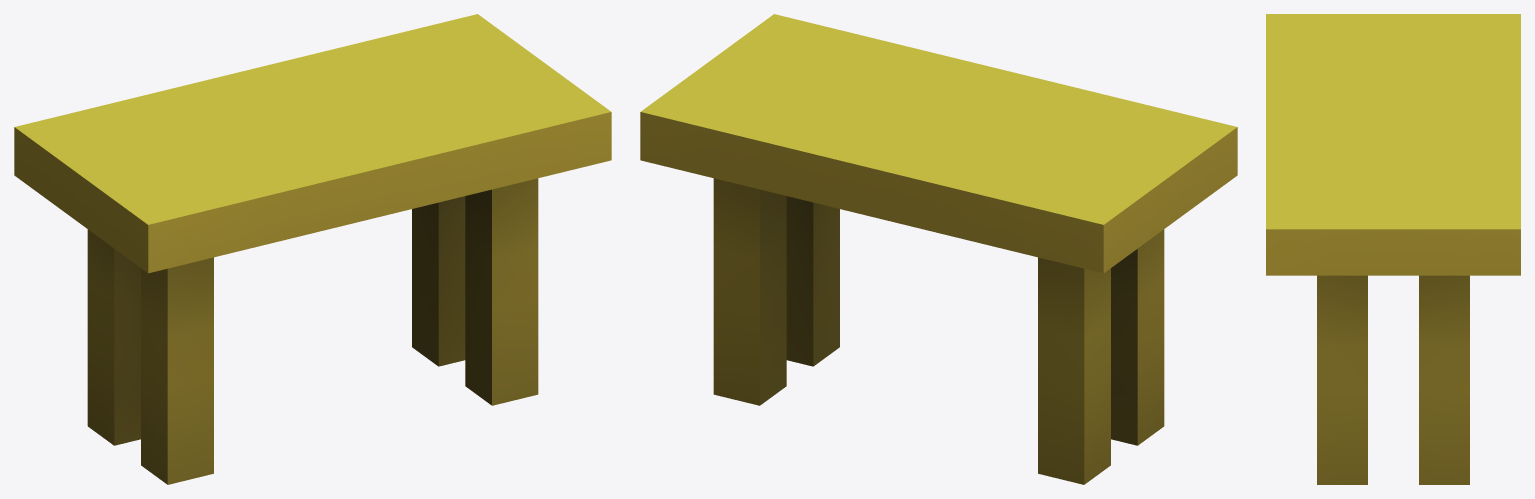
The model's file is desk.dae.
The picture shows the model from 3 angles, left to right: view 1: azimuth 30°, elevation 25°; view 2: azimuth 150°, elevation 25°; view 3: azimuth 270°, elevation 25°; orthographic projection. The views are drawn at different scales.
Visible parts, largest first — view 1: node; view 2: node; view 3: node.
Part boxes in pixels (x1=…): node: x1=14, y1=14, x2=611, y2=484; node: x1=640, y1=14, x2=1237, y2=484; node: x1=1266, y1=14, x2=1520, y2=484.
Bounding box in the file's own units: 18 × 10.8 × 9.
